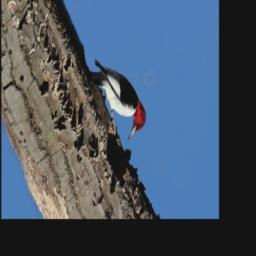Woodpecker: (81, 54, 153, 145)
